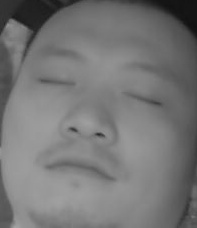blink: (121, 84, 164, 111), (37, 72, 75, 96)
mouth: (45, 147, 114, 185)
